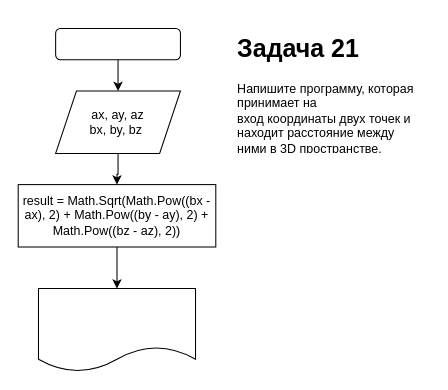
The diagram is 448 pixels wide and 390 high, and some of its shapes have lost their labels. Each missing label, with the centre of its shape:
$"Расстояние между 2-мя точками {result}": [116,330]
start: [117,44]
